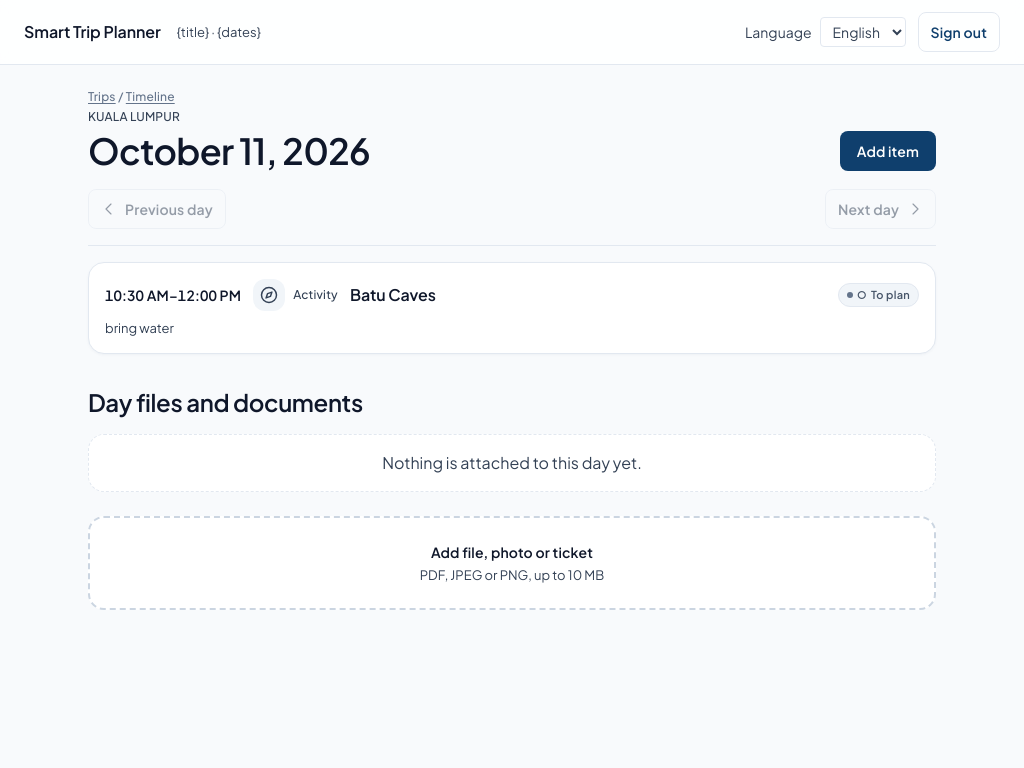
Scenario: a refused cost marks the field the message is about › marks the amount, in English, with the English message
Check: the text "Batu Caves" is shown, box [350, 284, 436, 305]
Click the button "10:30 AM–12:00 PM Activity Batu Caves ○ To plan bring water" at (173, 295), box [88, 262, 936, 354]
(page scrolled)
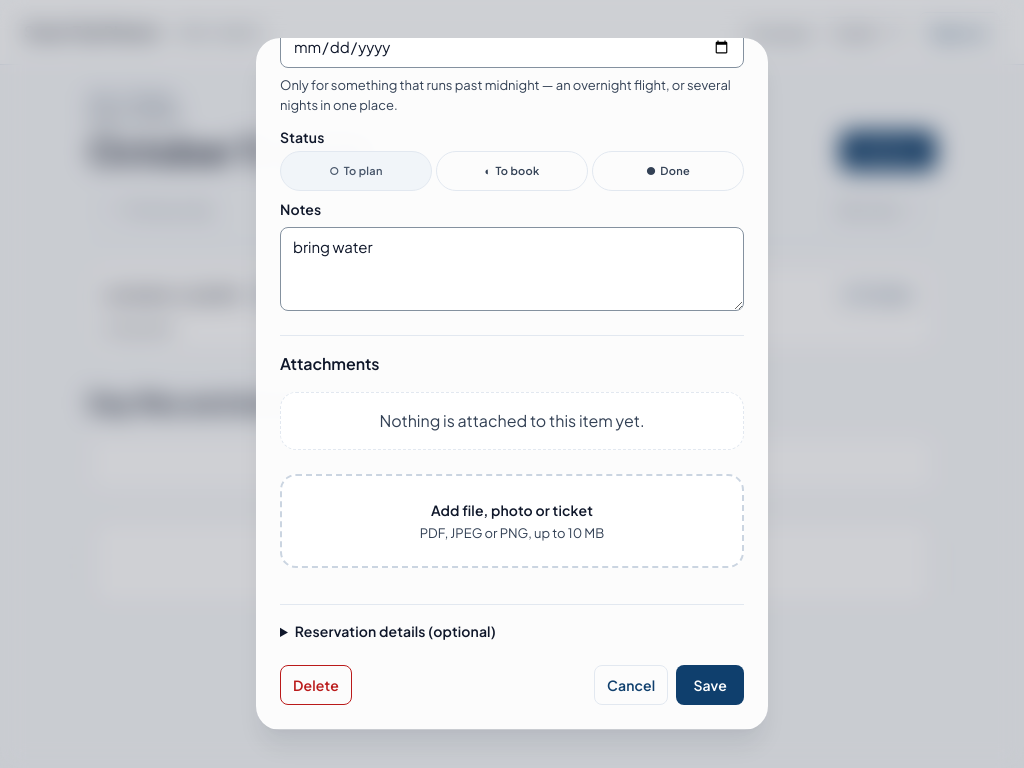
Click the heading "Reservation details (optional)" at (395, 631), box [295, 622, 496, 640]
(page scrolled)
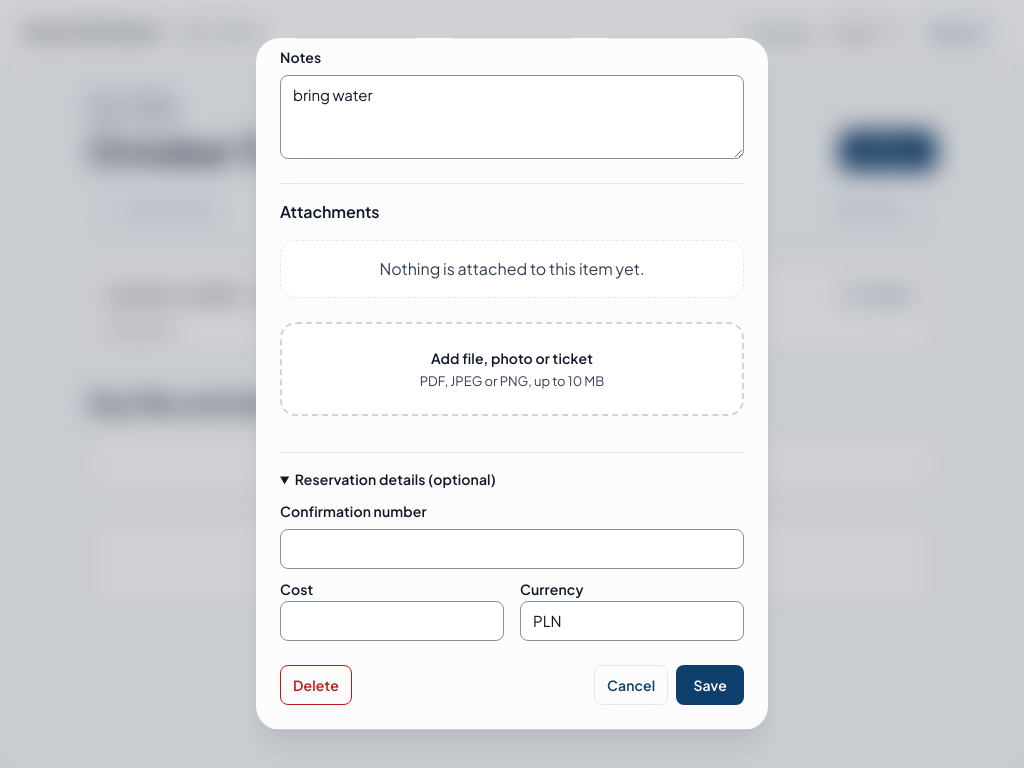
Type "-40" into the field labelled "Cost" at (392, 621), box [280, 601, 504, 641]
(page scrolled)
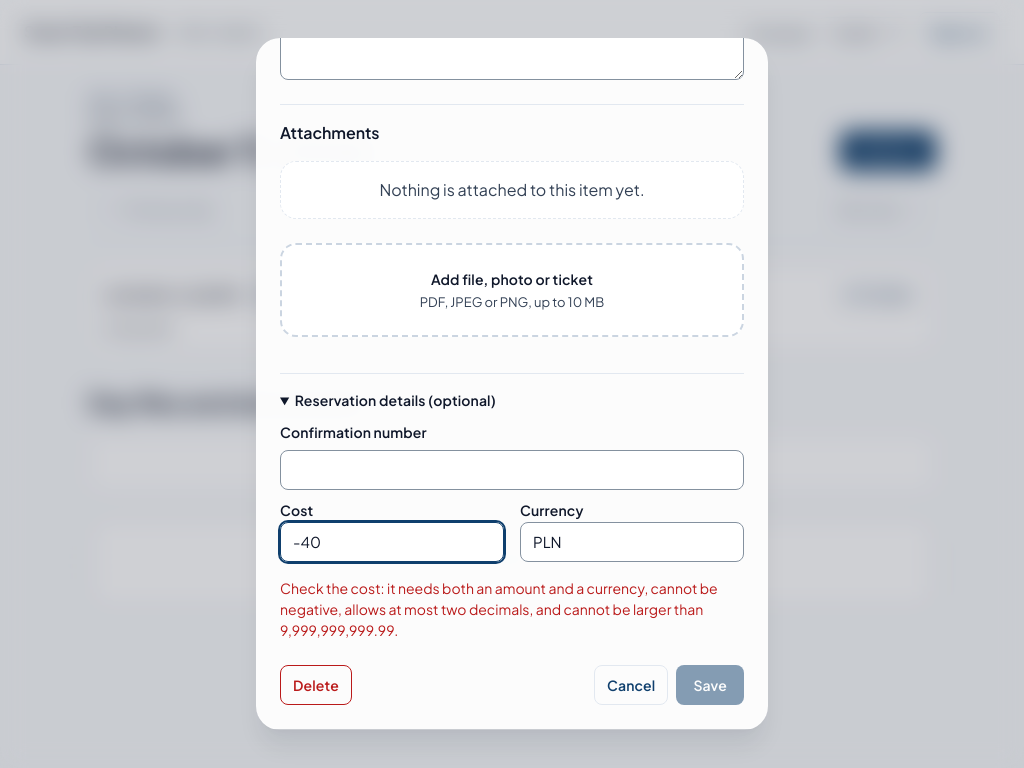
Check: the button "Save" is disabled, box [676, 665, 744, 705]
